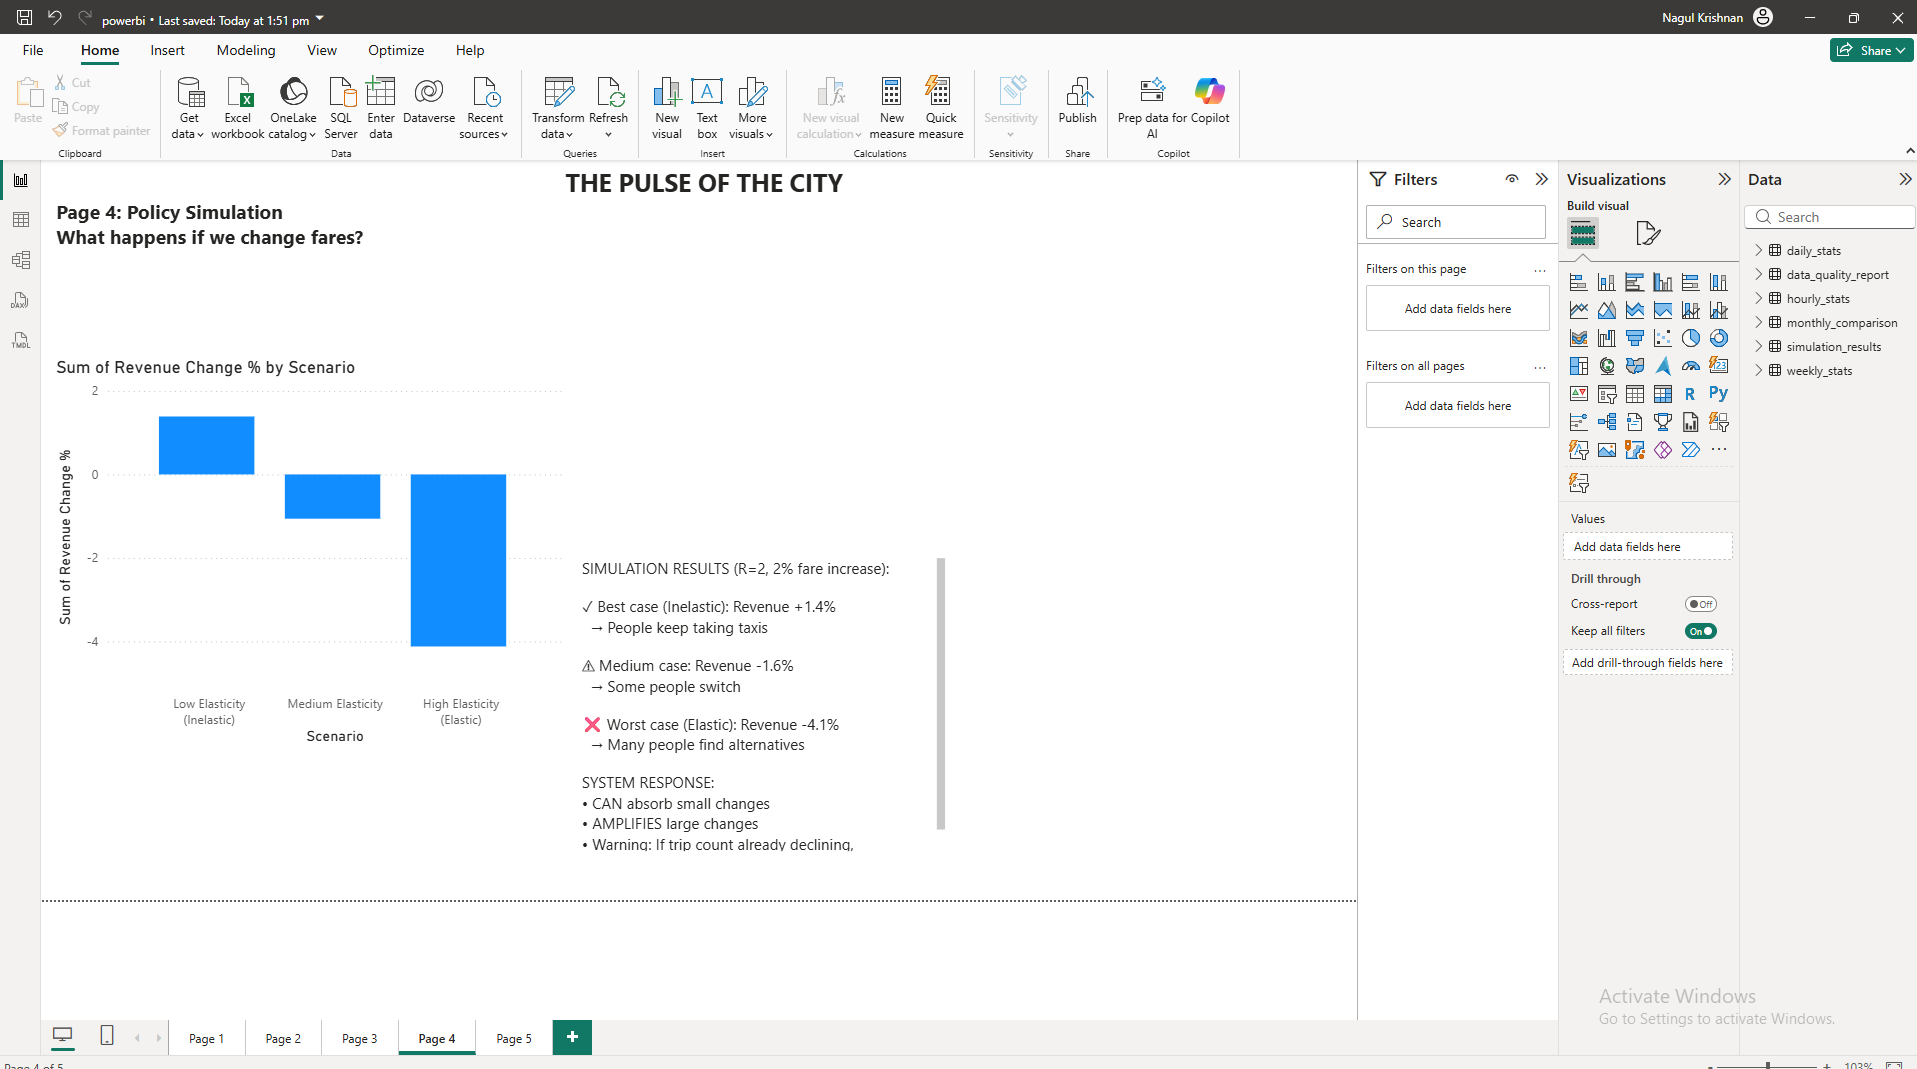

Layout of this report page (visuals, bound fields, positions):
{"tool":"powerbi","page":{"name":"Page 4","canvas":[1280,720],"ordinal":3},"visuals":[{"type":"textbox","box":[9.7,0,1270.3,140.1],"z":0},{"type":"clusteredColumnChart","fields":{"Category":["simulation_results.Scenario"],"Y":["Sum(simulation_results.Revenue Change %)"]},"box":[9.7,191.6,501.9,381.3],"z":1000},{"type":"textbox","box":[9.7,608.9,382.2,110.9],"z":2000},{"type":"textbox","box":[521.3,382.2,362.8,294.7],"z":3000}]}

Visuals, with their boxes on the page's 1280x720 design canvas (x1, y1, x2, y2). These are canvas units, not pixel positions in the 1917x1069 screenshot, which may show the page scaled, cropped or inside an application window:
textbox: box(10, 0, 1280, 140)
clusteredColumnChart - simulation_results.Scenario x Sum(simulation_results.Revenue Change %): box(10, 192, 512, 573)
textbox: box(10, 609, 392, 720)
textbox: box(521, 382, 884, 677)
